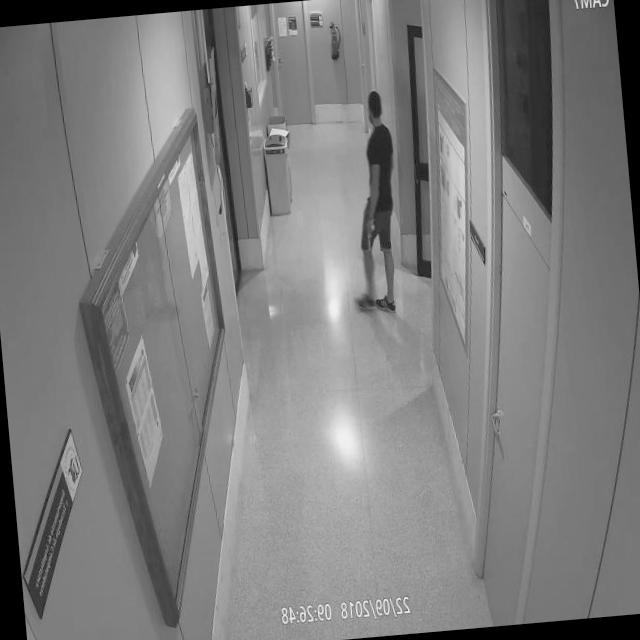gun: (362, 212, 381, 256)
person with a gun: (332, 89, 409, 318)
